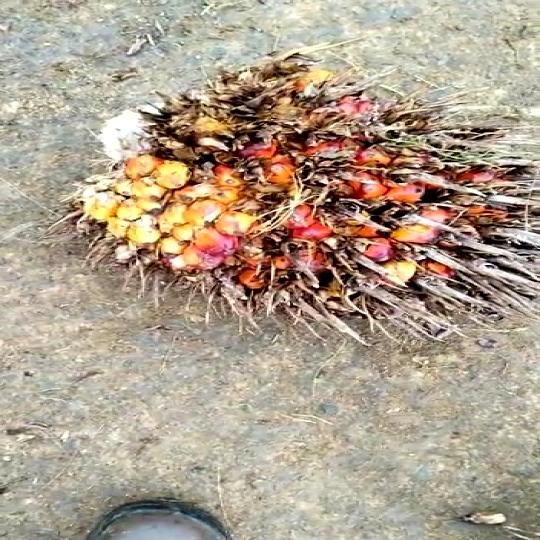terlalu masak: (66, 51, 523, 335)
